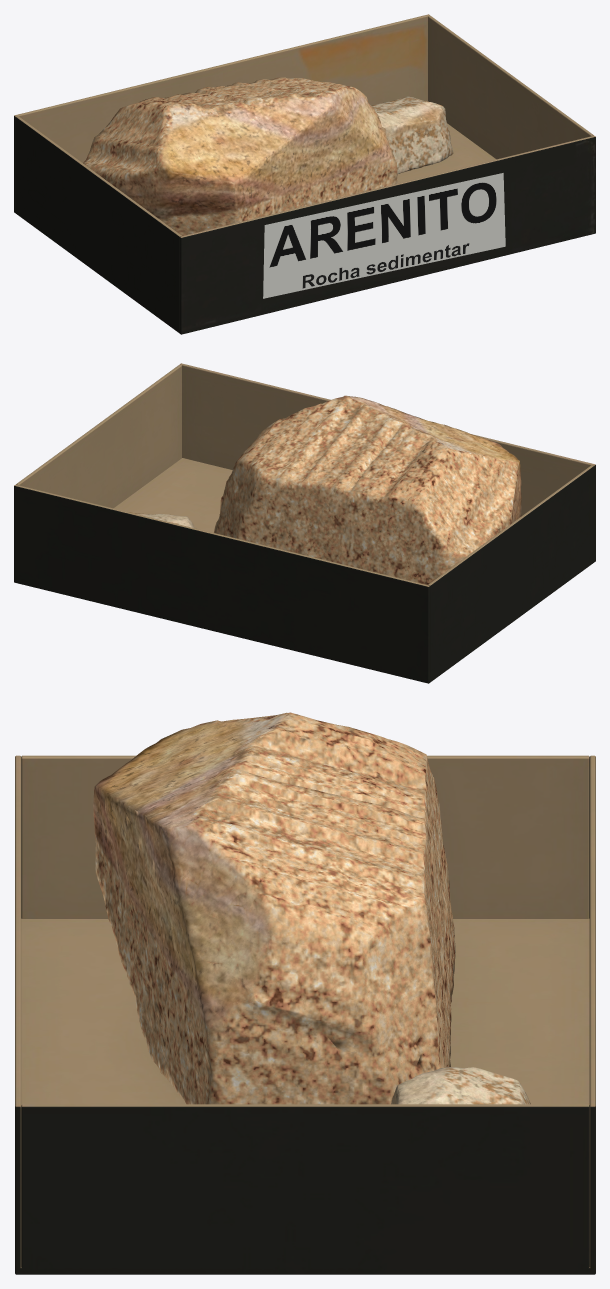
The model's file is rocha_02_03_arenito.glb.
3 views of the same model, one above another, from view 1: azimuth 30°, elevation 25°; view 2: azimuth 150°, elevation 25°; view 3: azimuth 270°, elevation 25° (orthographic). The views are drawn at different scales.
Parts seen in each view (by area): view 1: Fragmento_01_mo03, Bandeja_Frente_mo03, Etiqueta_mo03, Bandeja_Esquerda_mo03, Bandeja_Fundo_mo03, Bandeja_Direita_mo03, Fragmento_02_mo03, Bandeja_Base_mo03; view 2: Bandeja_Fundo_mo03, Fragmento_01_mo03, Bandeja_Esquerda_mo03, Bandeja_Frente_mo03, Bandeja_Direita_mo03, Bandeja_Base_mo03; view 3: Fragmento_01_mo03, Bandeja_Direita_mo03, Bandeja_Base_mo03, Bandeja_Esquerda_mo03, Fragmento_02_mo03, Bandeja_Frente_mo03, Bandeja_Fundo_mo03.
Part boxes in pixels (left/top/right/bottom): Fragmento_01_mo03: left=83, top=77, right=397, bottom=235; Bandeja_Frente_mo03: left=179, top=135, right=595, bottom=333; Etiqueta_mo03: left=263, top=173, right=505, bottom=298; Bandeja_Esquerda_mo03: left=15, top=116, right=181, bottom=332; Bandeja_Fundo_mo03: left=14, top=14, right=429, bottom=212; Bandeja_Direita_mo03: left=428, top=15, right=593, bottom=159; Fragmento_02_mo03: left=372, top=96, right=453, bottom=174; Bandeja_Base_mo03: left=14, top=123, right=528, bottom=334; Bandeja_Fundo_mo03: left=14, top=484, right=430, bottom=683; Fragmento_01_mo03: left=214, top=395, right=521, bottom=584; Bandeja_Esquerda_mo03: left=428, top=465, right=594, bottom=681; Bandeja_Frente_mo03: left=180, top=363, right=595, bottom=561; Bandeja_Direita_mo03: left=16, top=364, right=181, bottom=508; Bandeja_Base_mo03: left=113, top=458, right=595, bottom=683; Fragmento_01_mo03: left=93, top=712, right=455, bottom=1104; Bandeja_Direita_mo03: left=21, top=1104, right=589, bottom=1274; Bandeja_Base_mo03: left=15, top=918, right=595, bottom=1274; Bandeja_Esquerda_mo03: left=21, top=755, right=589, bottom=918; Fragmento_02_mo03: left=391, top=1067, right=530, bottom=1104; Bandeja_Frente_mo03: left=15, top=755, right=21, bottom=1273; Bandeja_Fundo_mo03: left=589, top=755, right=595, bottom=1273.
Size of the model in its own units: 0.2011 by 0.0723 by 0.1408.
Materials: 3 (3 with a texture image).
